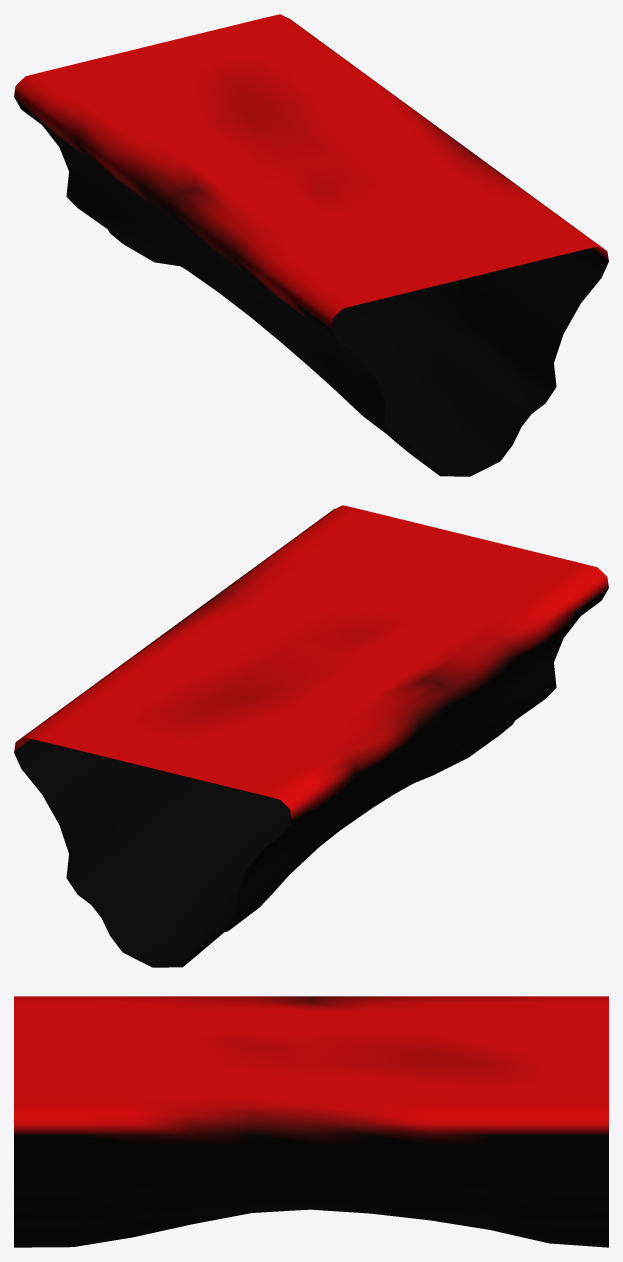
File: CrossingCliff01B 2M Foreground.fbx
The picture shows the model from 3 angles, top to bottom: view 1: azimuth 30°, elevation 25°; view 2: azimuth 150°, elevation 25°; view 3: azimuth 270°, elevation 25°; orthographic projection. The views are drawn at different scales.
Parts seen in each view (by area): view 1: CrossingCliff01B 2M Foreground; view 2: CrossingCliff01B 2M Foreground; view 3: CrossingCliff01B 2M Foreground.
Boxes of the visible parts, left/top/right/bottom form: CrossingCliff01B 2M Foreground: left=14, top=14, right=608, bottom=476; CrossingCliff01B 2M Foreground: left=14, top=505, right=608, bottom=967; CrossingCliff01B 2M Foreground: left=14, top=996, right=608, bottom=1247.
Bounding box in the file's own units: 1.01 × 0.6931 × 2.
